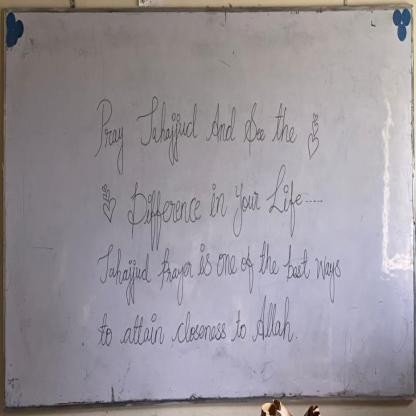Handwritten text: (84, 234, 349, 299), (93, 86, 302, 162), (78, 299, 309, 358), (127, 160, 306, 236)
Whiteboard: (3, 6, 416, 406)
